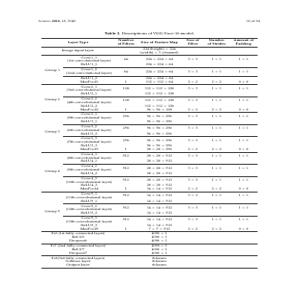table: (34, 36, 257, 271)
